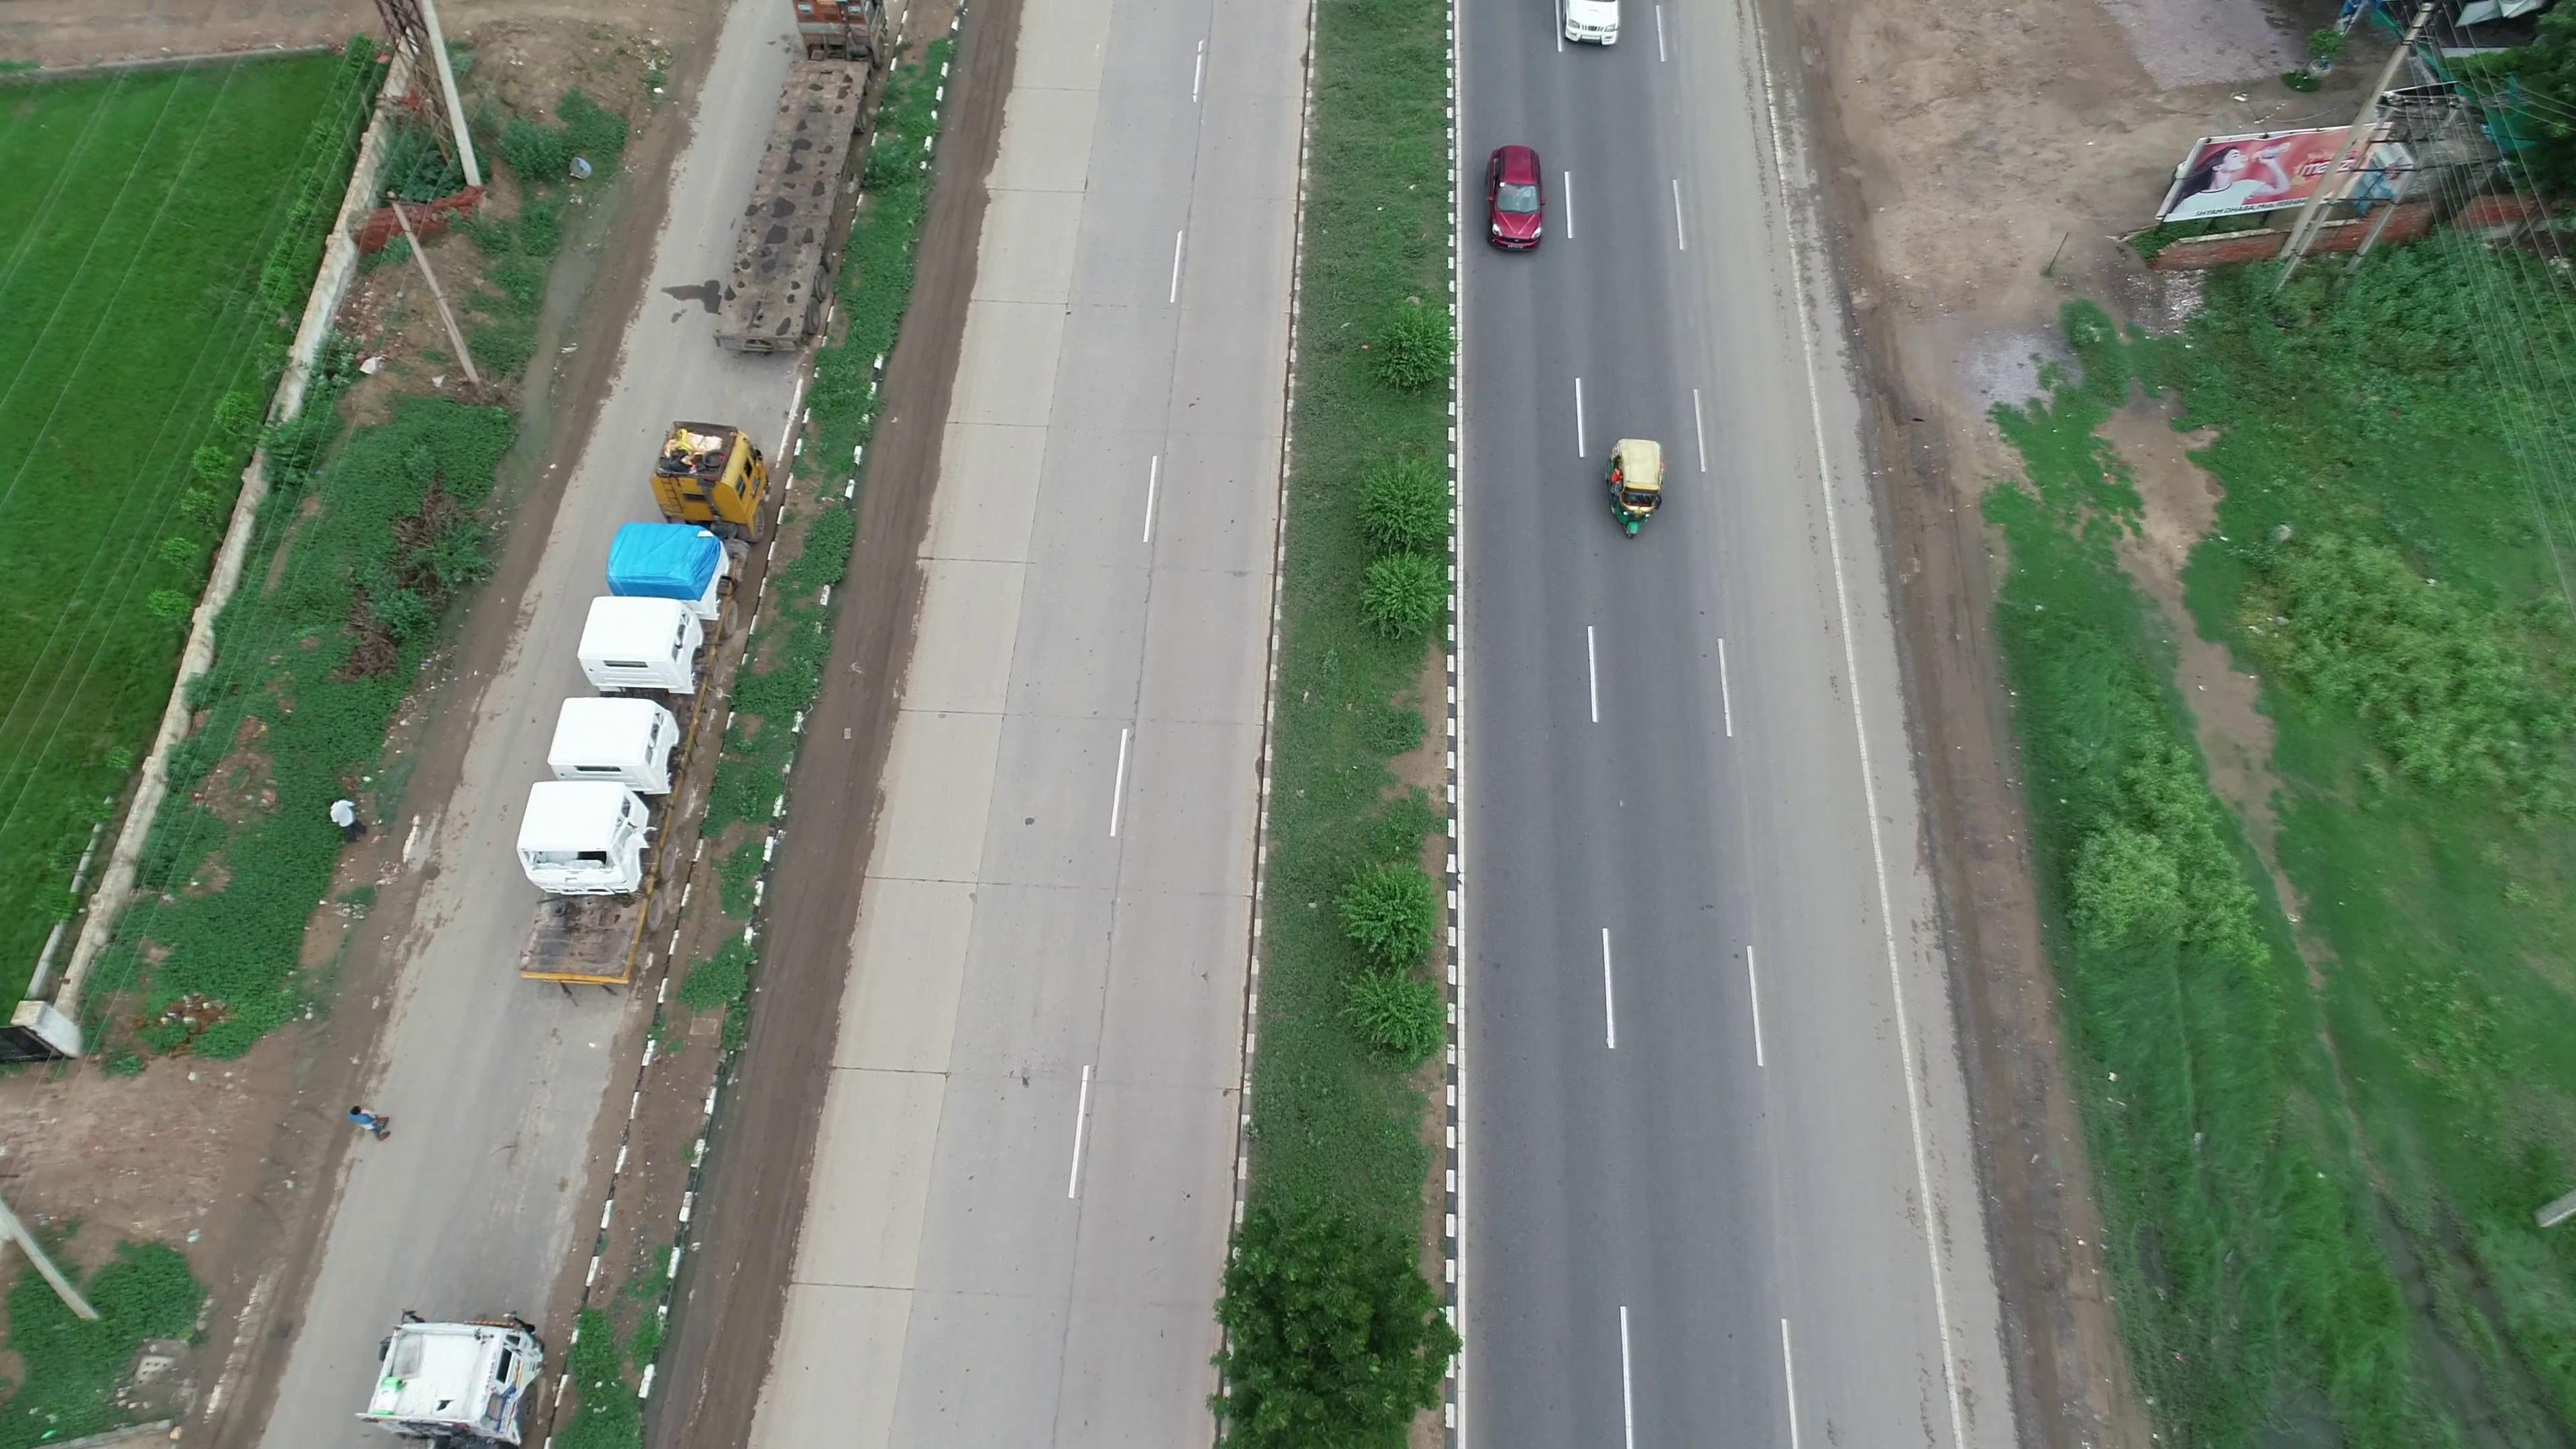Muddy_road: (870, 131, 1014, 487), (715, 830, 867, 1150), (786, 513, 934, 816), (646, 1152, 798, 1442)
